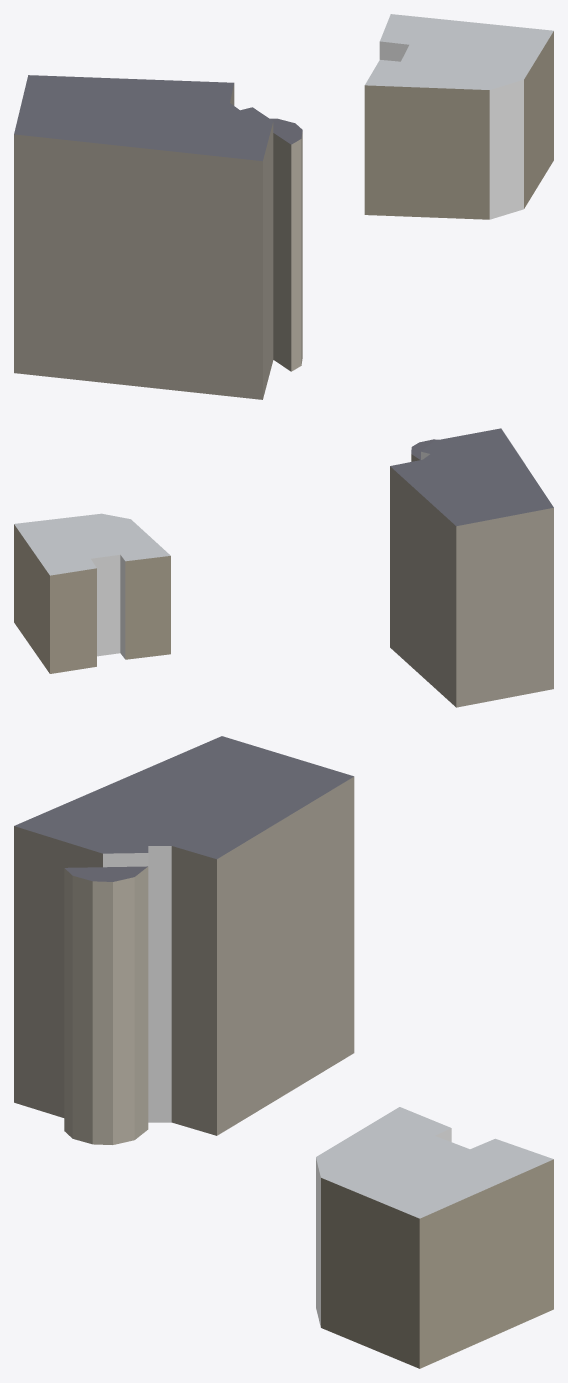
The picture shows the model from 3 angles, top to bottom: view 1: azimuth 30°, elevation 25°; view 2: azimuth 150°, elevation 25°; view 3: azimuth 270°, elevation 25°; orthographic projection. The views are drawn at different scales.
Parts seen in each view (by area): view 1: tuile; view 2: tuile; view 3: tuile.
Part boxes in pixels (x1,y1,x2,y2): tuile: (14,14,553,399); tuile: (14,428,553,707); tuile: (14,736,553,1368).
Size of the model in its own units: 49.9 by 18.38 by 32.2.
